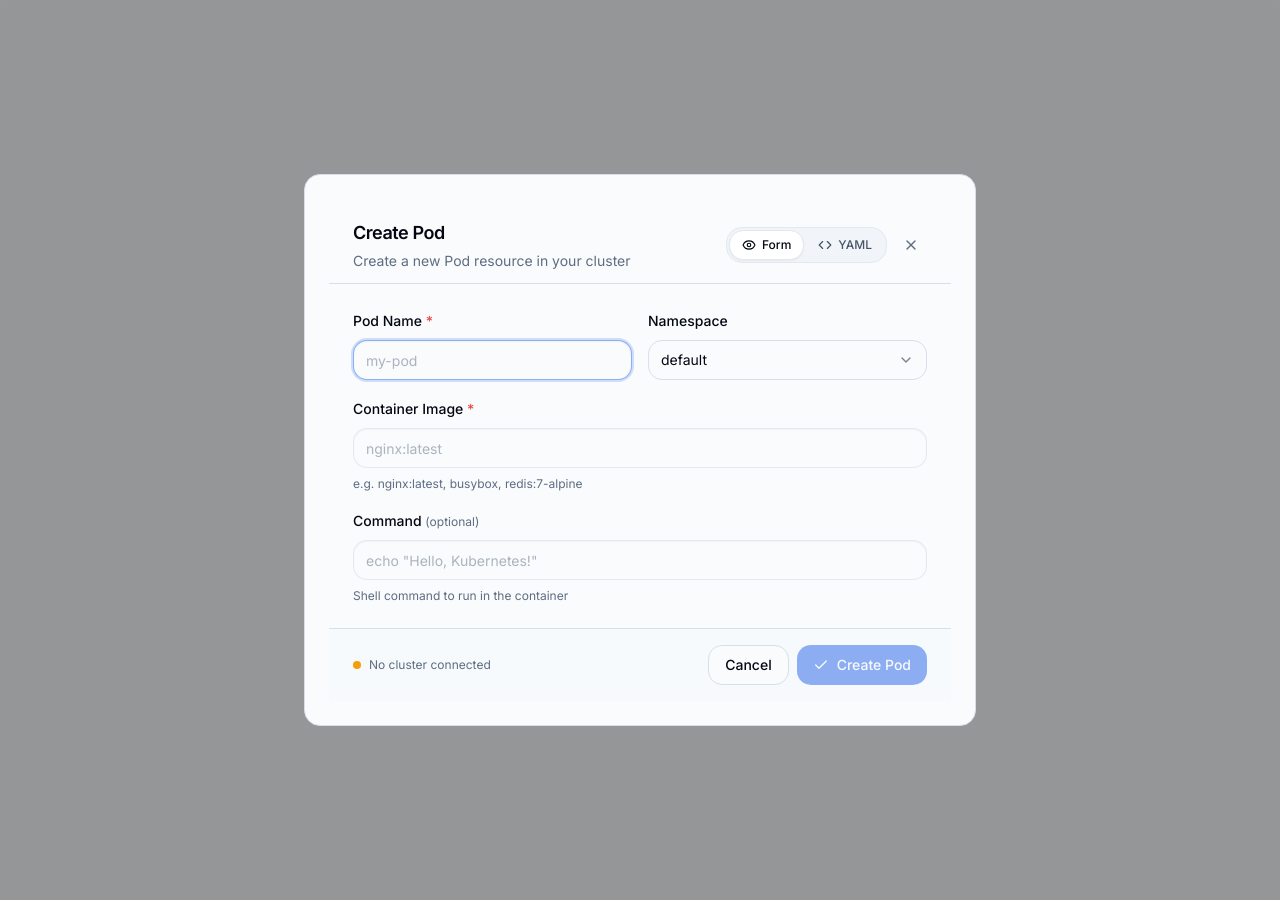
Test: QuickCreateDialog › YAML validation › catches missing required fields in YAML mode
Note: Switch to YAML mode
Click the button "YAML" at (845, 245), box top-left (806, 231), bottom-right (884, 259)
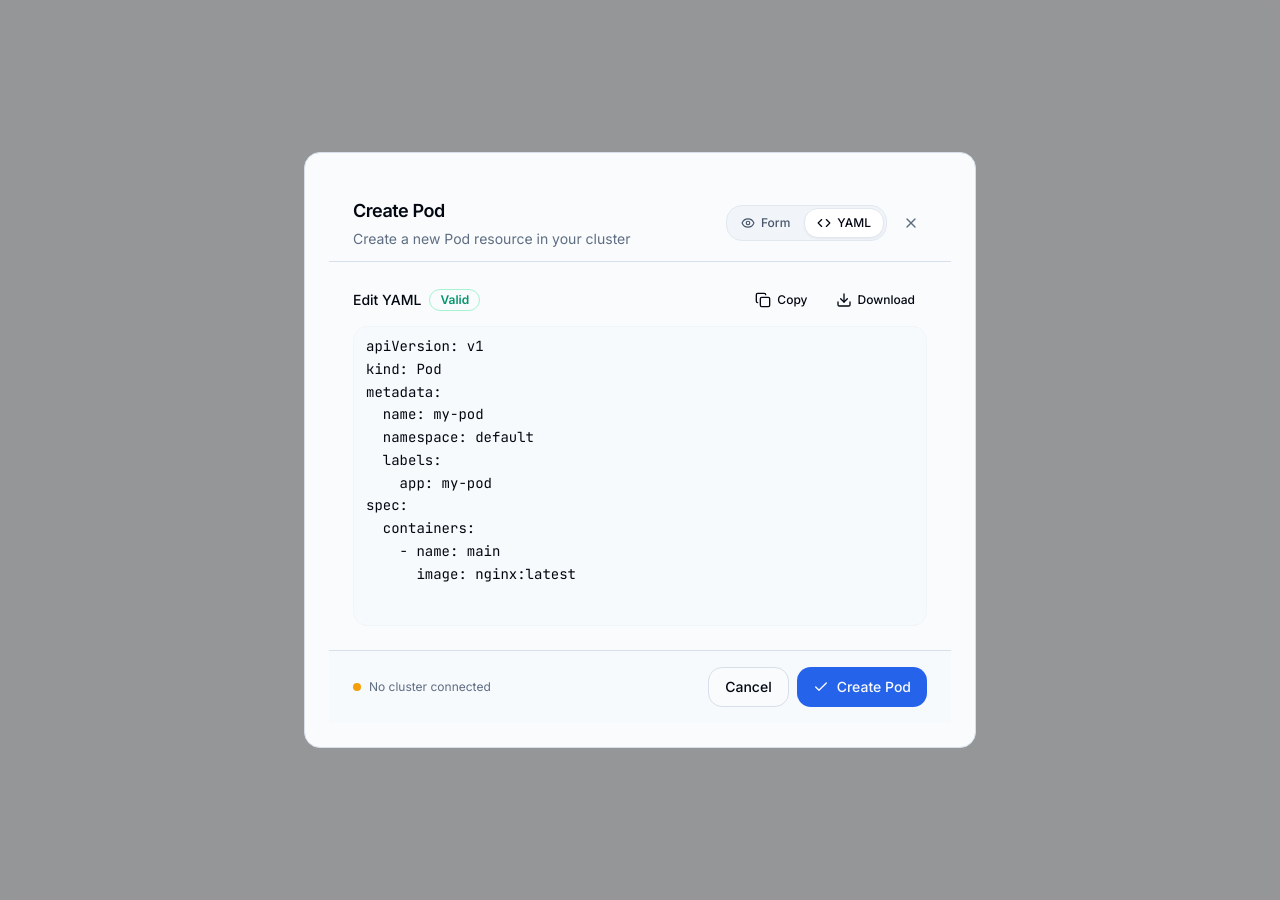
Note: Clear the textarea and type invalid YAML
Clear the text box with placeholder "Enter YAML configuration..." at (640, 476), box top-left (353, 326), bottom-right (927, 626)
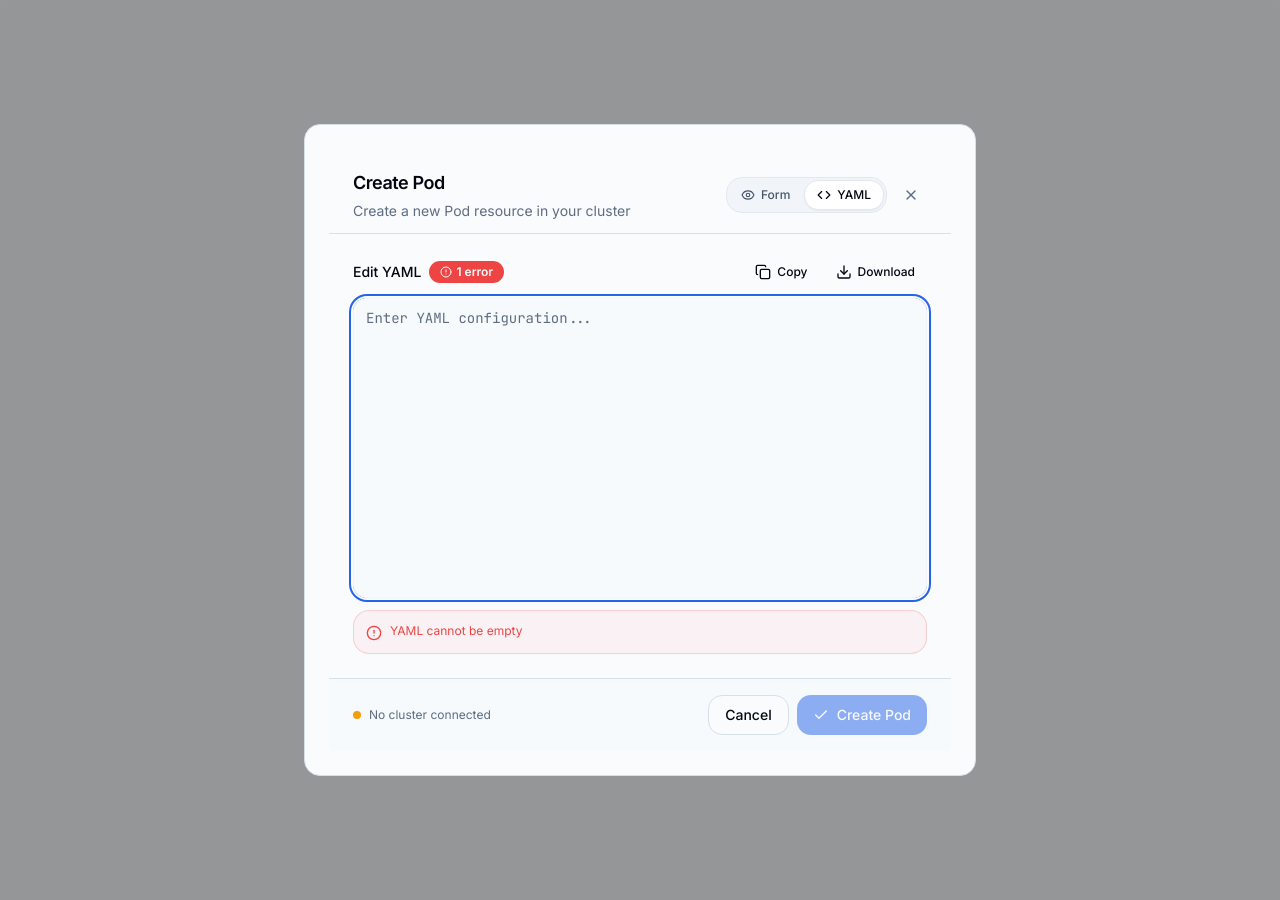
Type "foo: bar" into the text box with placeholder "Enter YAML configuration..." at (640, 448), box top-left (353, 298), bottom-right (927, 598)
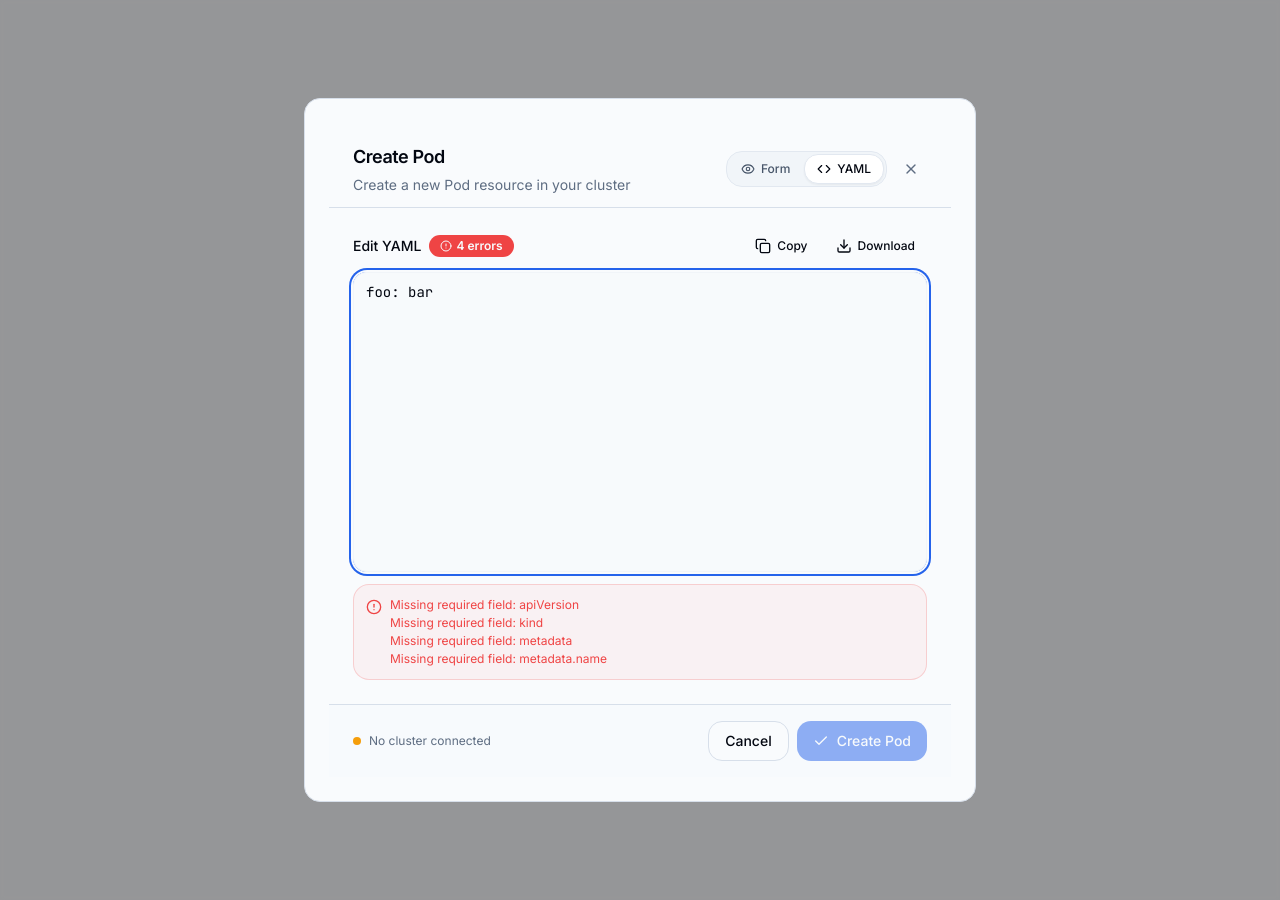
Result: the text "Missing required field: apiVersion" is shown at top-left (390, 597), bottom-right (607, 613)
Result: the text "Missing required field: kind" is shown at top-left (390, 615), bottom-right (543, 630)
